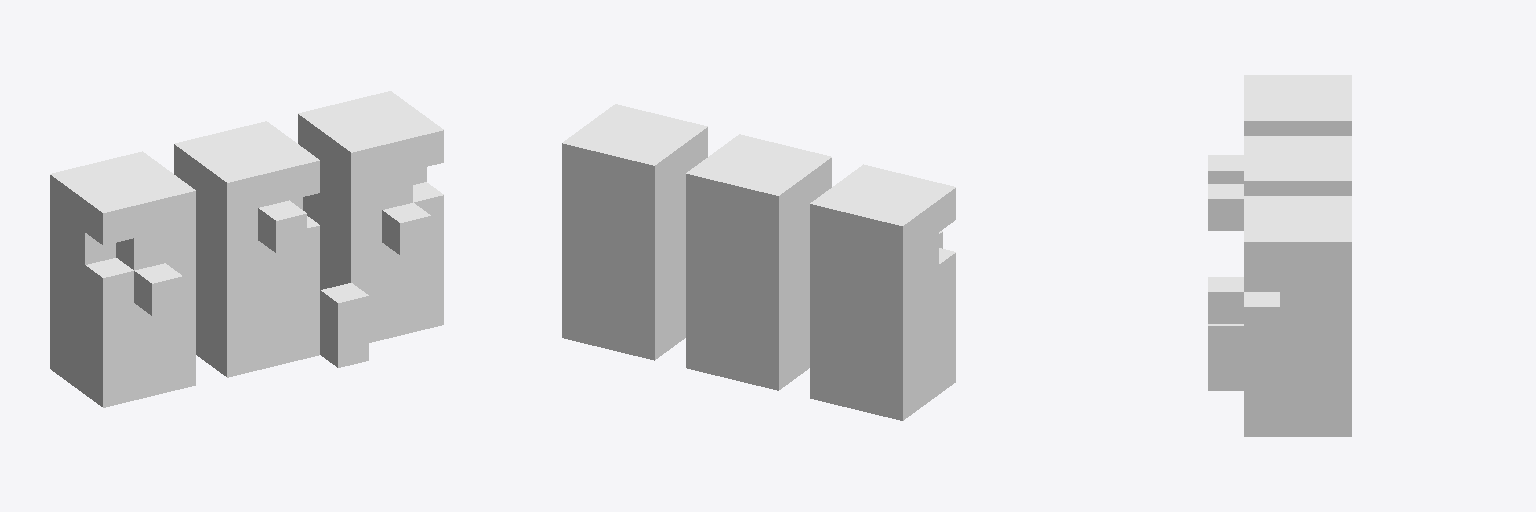
The model's file is recyclebin.obj.
3 renders of one model, left to right at view 1: azimuth 30°, elevation 25°; view 2: azimuth 150°, elevation 25°; view 3: azimuth 270°, elevation 25°, orthographic.
Visible parts, largest first — view 1: ObjObject.001; view 2: ObjObject.001; view 3: ObjObject.001.
Part boxes in pixels (x1,y1,x2,y2): ObjObject.001: (50,91,443,407); ObjObject.001: (562,104,955,420); ObjObject.001: (1208,75,1351,436).
Bounding box in the file's own units: 1.1 × 0.6 × 0.4.